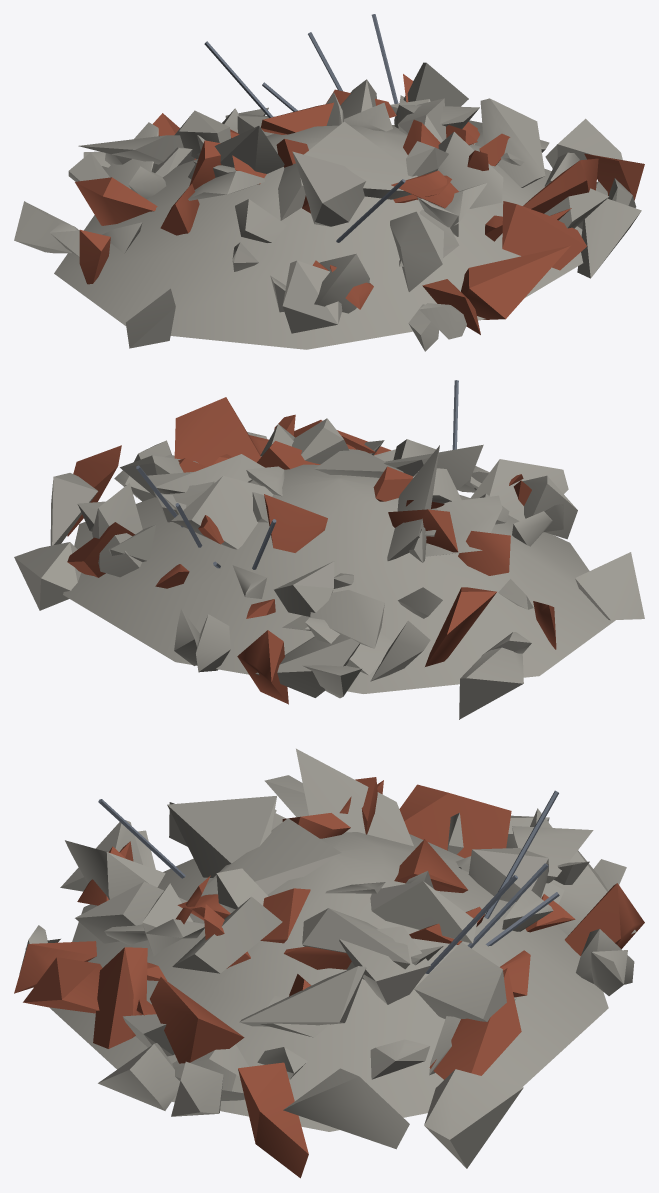
Rendered from demolition.heap.concrete_small.glb.
3 views of the same model, one above another, from view 1: azimuth 30°, elevation 25°; view 2: azimuth 150°, elevation 25°; view 3: azimuth 270°, elevation 25° (orthographic). The views are drawn at different scales.
Visible parts, largest first — view 1: main__concrete, main__brick, main__steel_painted; view 2: main__concrete, main__brick, main__steel_painted; view 3: main__concrete, main__brick, main__steel_painted.
Boxes of the visible parts, x1,y1,x2,y2 form: main__concrete: (14,62,641,351); main__brick: (75,74,644,334); main__steel_painted: (204,14,405,242); main__concrete: (14,418,644,719); main__brick: (67,397,556,704); main__steel_painted: (136,380,458,569); main__concrete: (19,748,636,1168); main__brick: (14,777,644,1178); main__steel_painted: (98,790,559,973).
Size of the model in its own units: 3.39 by 1.15 by 2.85.
